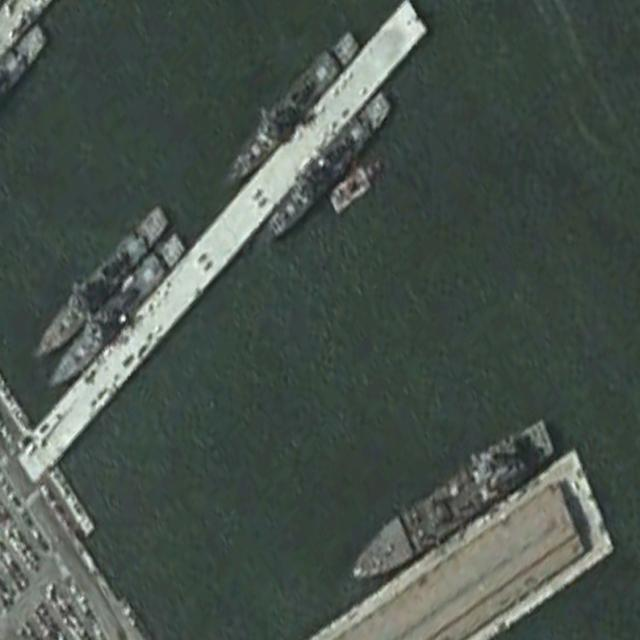Cruiser: (252, 87, 394, 254), (220, 26, 362, 192)
Other Warship: (342, 410, 559, 598), (40, 227, 187, 396), (24, 201, 172, 365)
